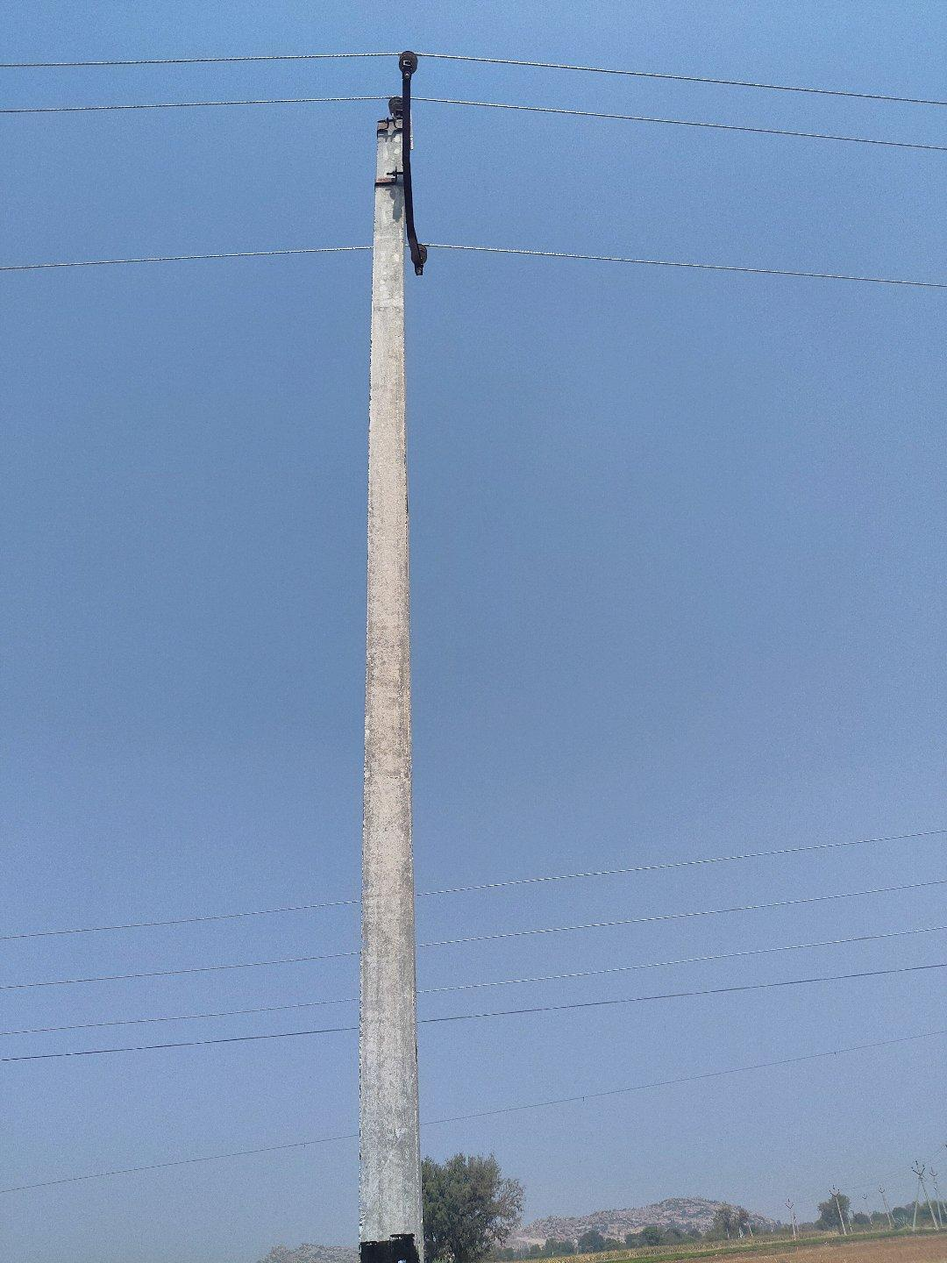{"0" "insulator", "1" "pole", "2" "crossarm", "3" "conductor", "4" "street_: (358, 53, 425, 1262)
